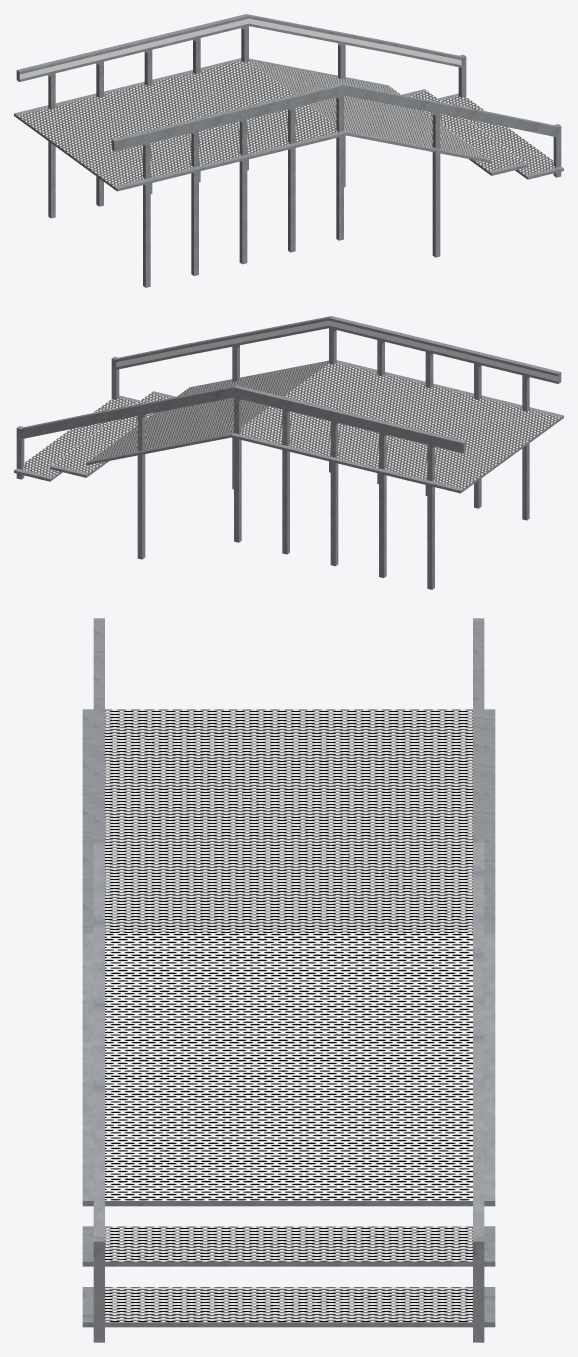
File: Gate-Walkway.obj
3 renders of one model, top to bottom at view 1: azimuth 30°, elevation 25°; view 2: azimuth 150°, elevation 25°; view 3: azimuth 270°, elevation 25°, orthographic. The views are drawn at different scales.
Parts seen in each view (by area): view 1: Gate-Walkway; view 2: Gate-Walkway; view 3: Gate-Walkway.
Part boxes in pixels (<box>): Gate-Walkway: <box>14,14,563,287</box>; Gate-Walkway: <box>14,316,563,589</box>; Gate-Walkway: <box>82,618,495,1342</box>.
Size of the model in its own units: 9.25 by 3.85 by 3.7.
